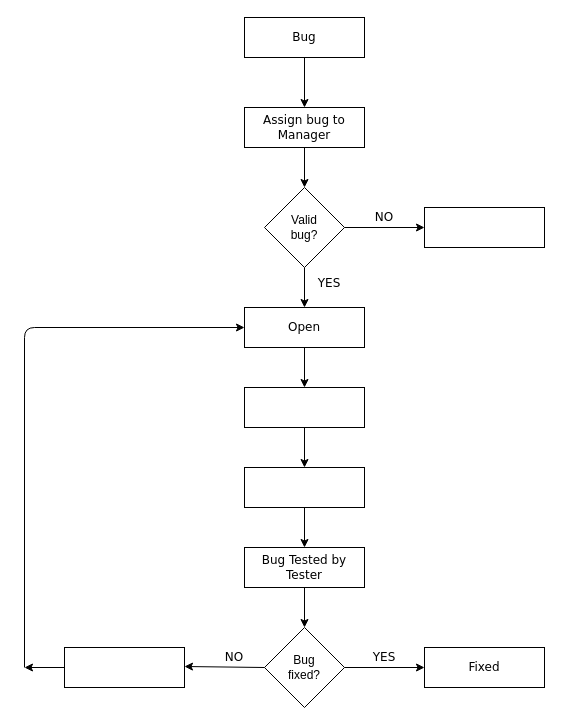
This 562x725 diagram has some shape labels left out. Each missing label, with the centre of its shape:
"Assign to User" goes at [304,407].
"Rejected" goes at [484,227].
"Reopen" goes at [124,667].
"Resolved" goes at [304,487].
